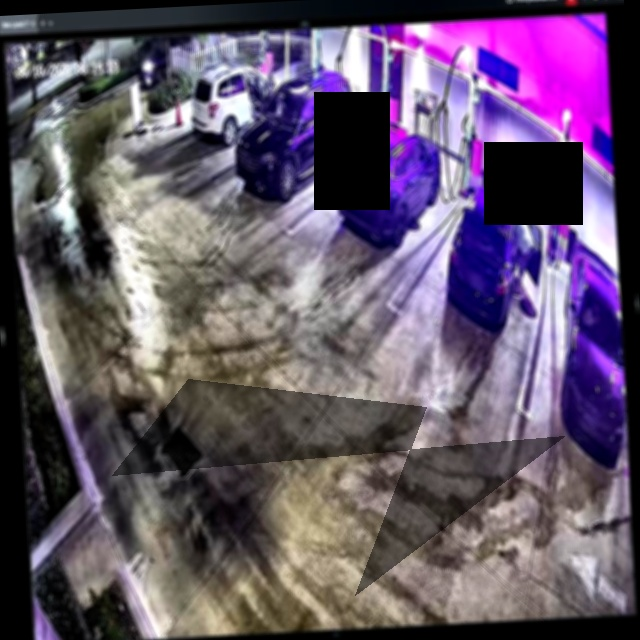Car: (440, 184, 546, 330), (232, 71, 361, 190), (332, 111, 445, 244)
